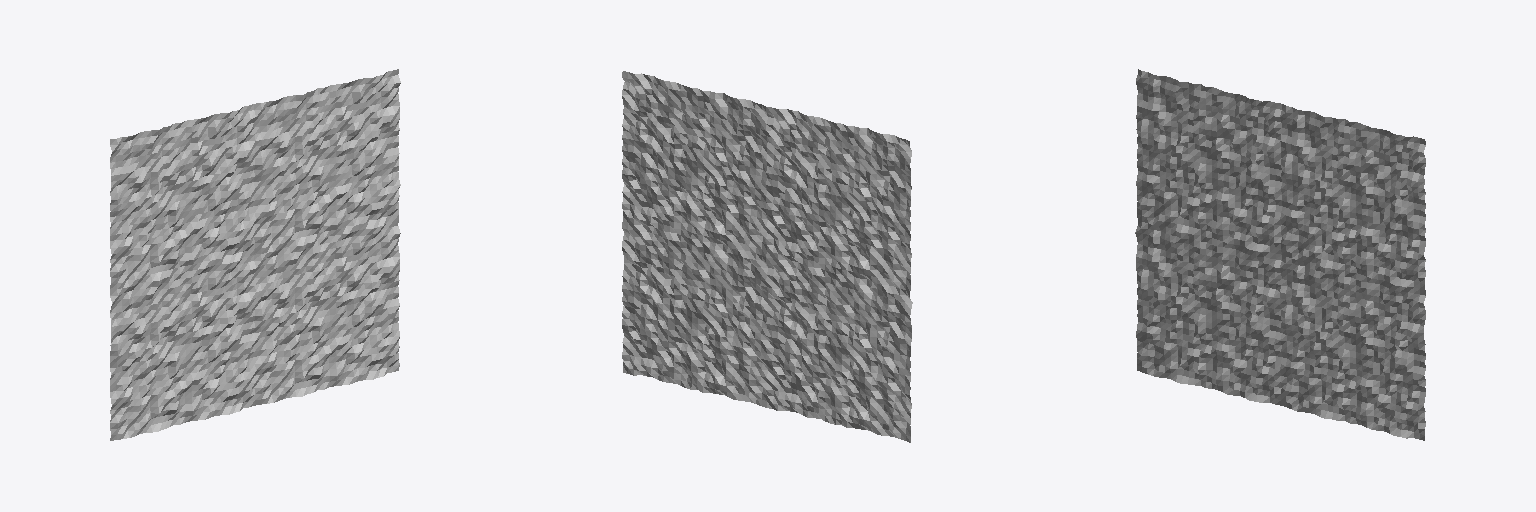
Rendered from terrain3.obj.
The picture shows the model from 3 angles: view 1: azimuth 30°, elevation 25°; view 2: azimuth 150°, elevation 25°; view 3: azimuth 330°, elevation 25°; orthographic projection.
Visible parts, largest first — view 1: Plane04; view 2: Plane04; view 3: Plane04.
Boxes of the visible parts, <box> form: Plane04: <box>110,69,400,440</box>; Plane04: <box>622,71,912,442</box>; Plane04: <box>1135,69,1425,440</box>.
Size of the model in its own units: 1000 by 1000 by 25.46.